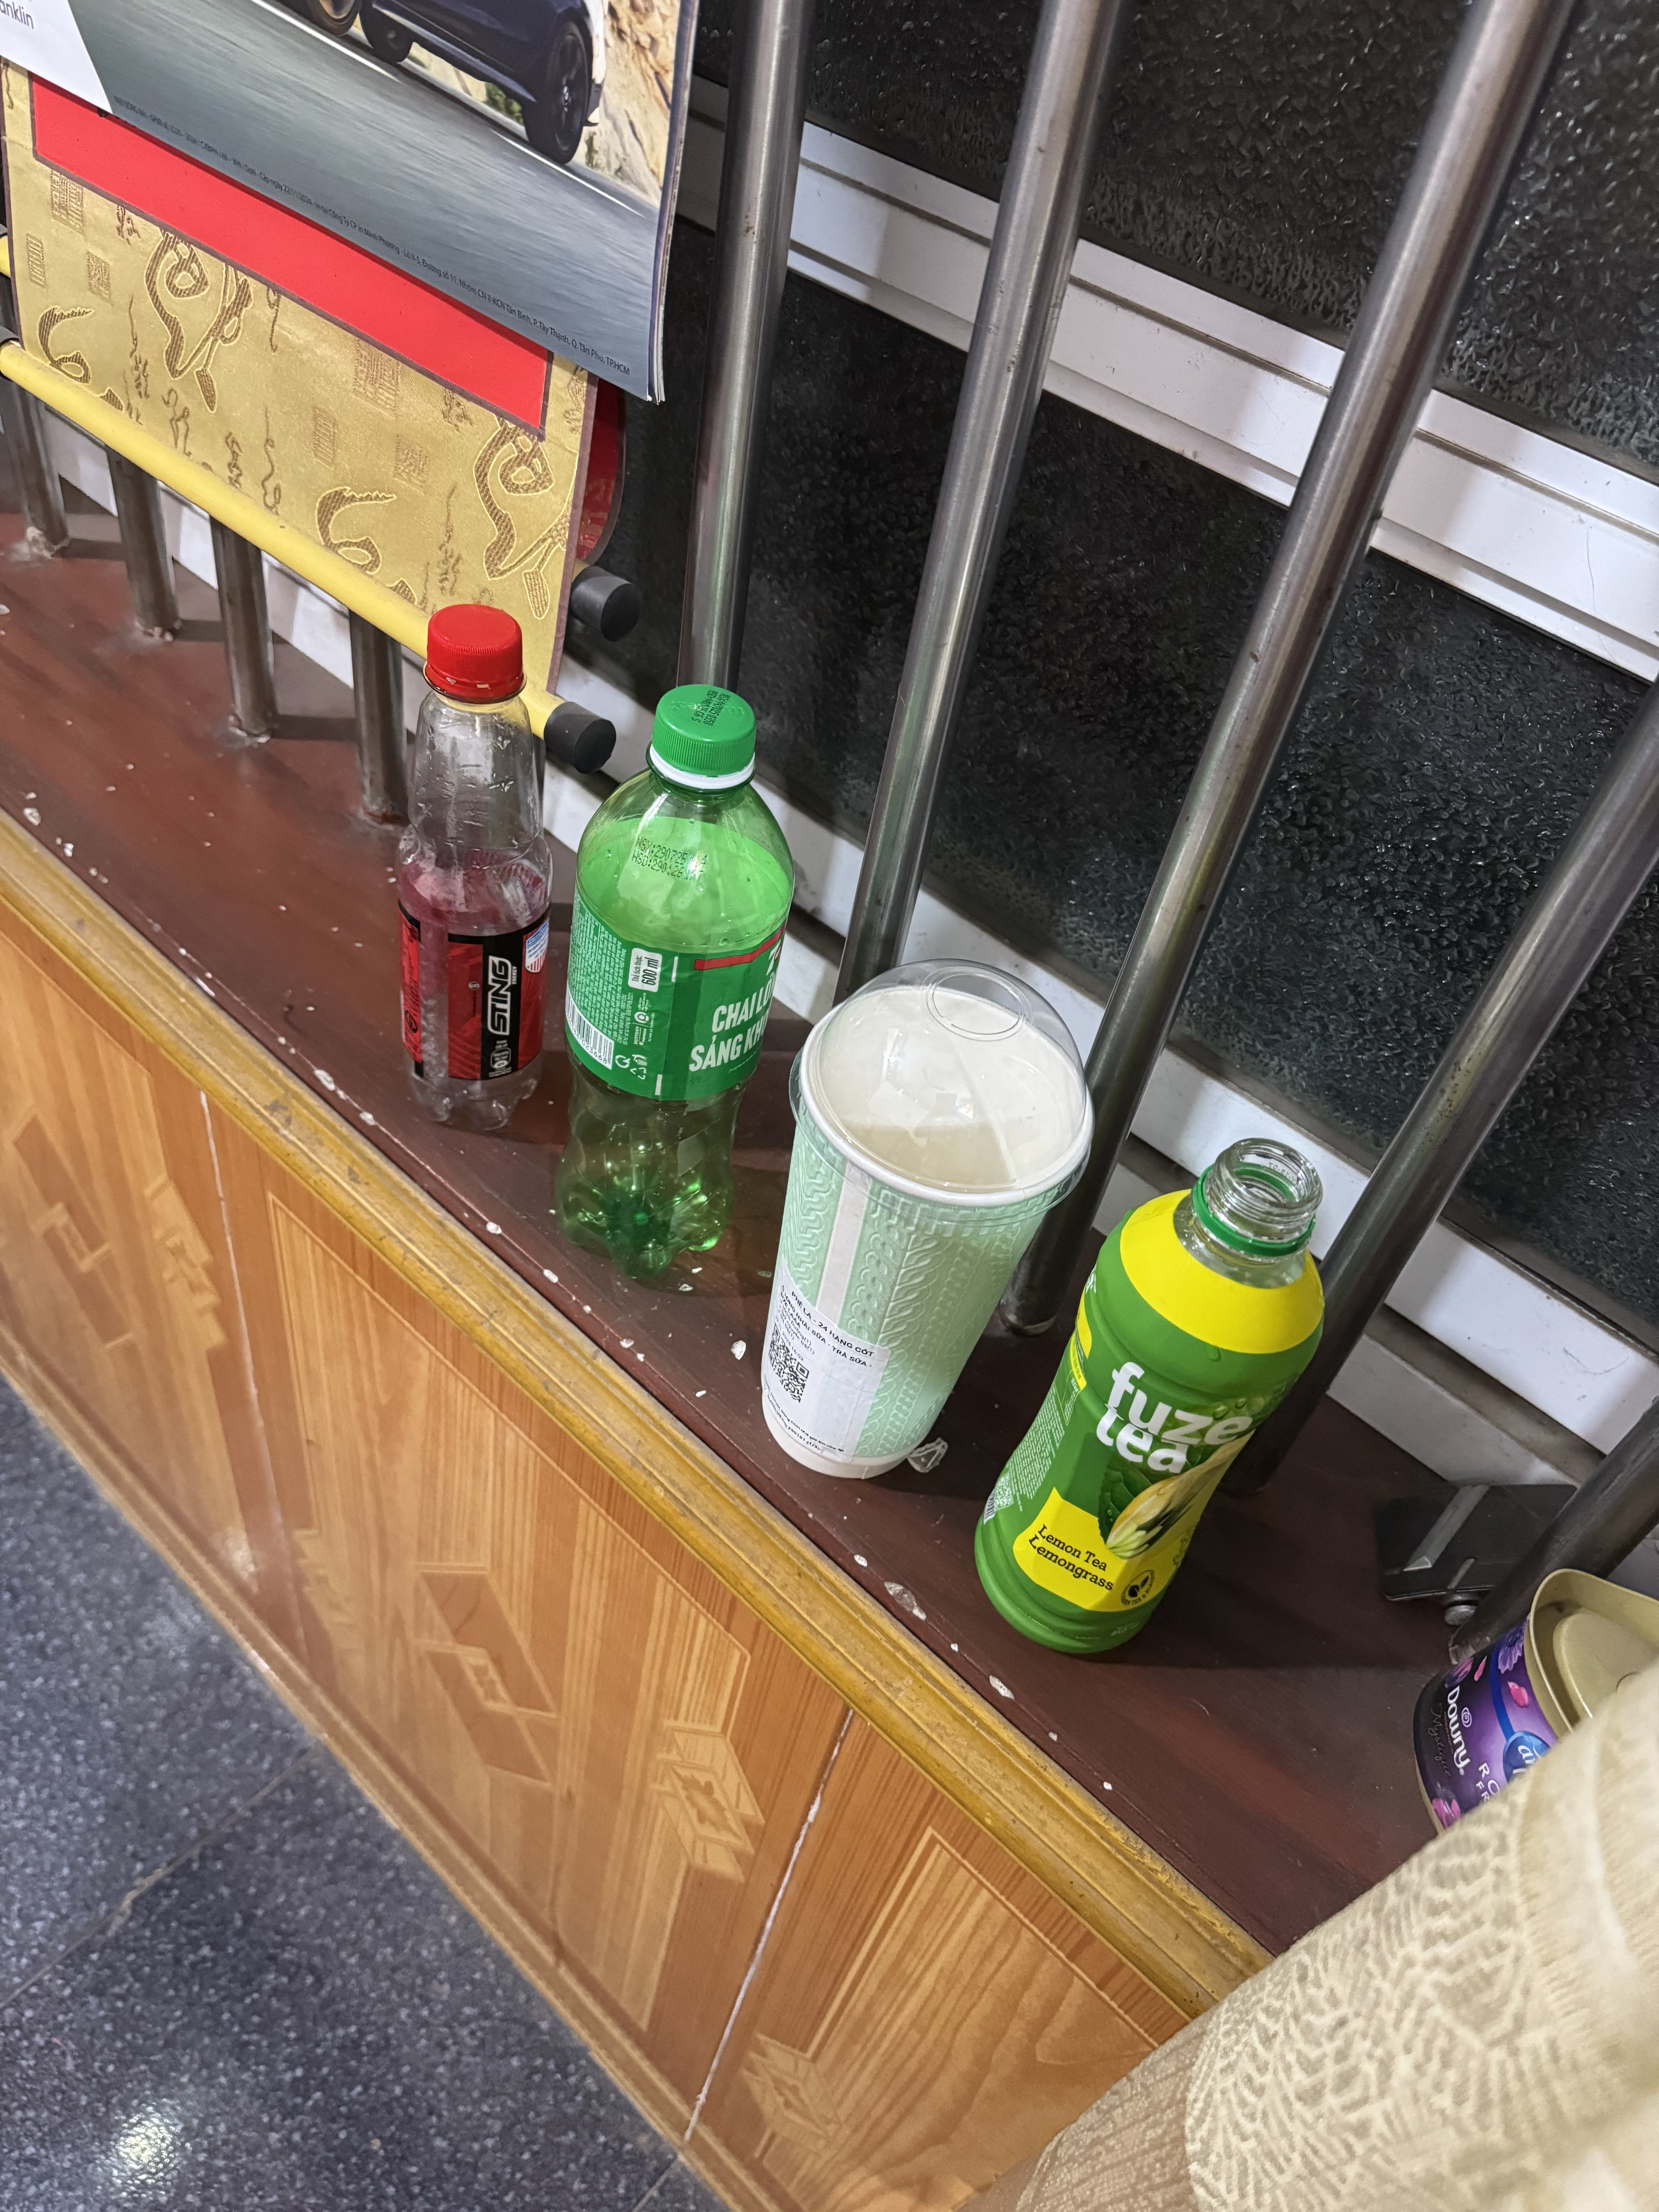2: (680, 900, 1110, 1508)
bottle: (960, 1106, 1398, 1677), (558, 665, 786, 1285), (394, 592, 547, 1144)
